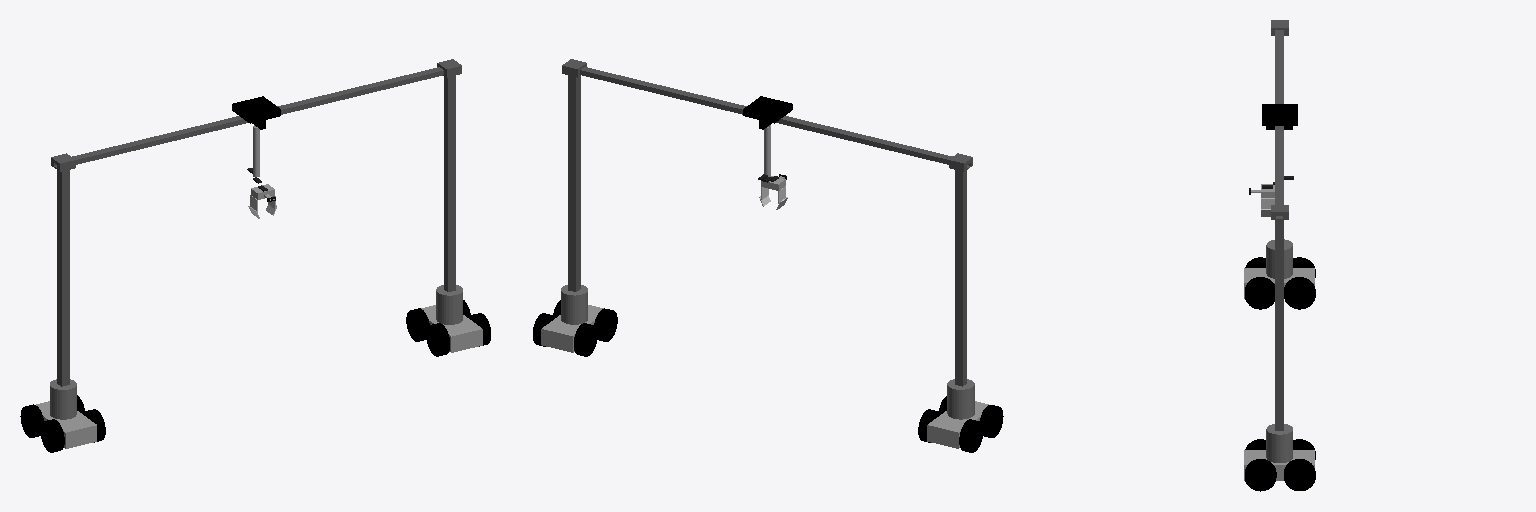
--- Render facts (derived) ---
Views: 3 orthographic renders of the robot side by side, from view 1: azimuth 30°, elevation 25°; view 2: azimuth 150°, elevation 25°; view 3: azimuth 270°, elevation 25°.
Model frame with 47 links and 46 joints (1 revolute, 9 continuous, 5 prismatic, 31 fixed), rooted at Untitled.020, posed every joint at zero.
Links seen in each view (by area): view 1: Untitled.020, Untitled.004, Untitled.009, Untitled.046, Untitled.045, Untitled.026, Untitled.017, Untitled.008, Untitled.007, Untitled.011; view 2: Untitled.020, Untitled.004, Untitled.009, Untitled.046, Untitled.045, Untitled.026, Untitled.007, Untitled.011, Untitled.008, Untitled.017; view 3: Untitled.020, Untitled.045, Untitled.006, Untitled.013, Untitled.015, Untitled.005, Untitled.026, Untitled.009, Untitled.046, Untitled.004.
Boxes of the visible links, x1,y1,x2,y2 form: Untitled.020: (51, 59, 461, 386); Untitled.004: (36, 401, 96, 448); Untitled.009: (421, 305, 482, 352); Untitled.046: (50, 379, 76, 419); Untitled.045: (436, 285, 462, 324); Untitled.026: (232, 96, 280, 123); Untitled.017: (426, 323, 449, 356); Untitled.008: (41, 419, 64, 452); Untitled.007: (20, 404, 43, 437); Untitled.011: (406, 308, 429, 341); Untitled.020: (562, 59, 972, 386); Untitled.004: (927, 401, 988, 448); Untitled.009: (541, 305, 603, 352); Untitled.046: (947, 379, 974, 419); Untitled.045: (561, 285, 587, 324); Untitled.026: (743, 96, 792, 123); Untitled.007: (959, 419, 982, 452); Untitled.011: (574, 323, 597, 356); Untitled.008: (980, 405, 1003, 437); Untitled.017: (594, 308, 617, 341); Untitled.020: (1271, 20, 1288, 430); Untitled.045: (1266, 424, 1292, 462); Untitled.006: (1284, 277, 1315, 309); Untitled.013: (1284, 459, 1315, 490); Untitled.015: (1245, 459, 1276, 491); Untitled.005: (1245, 277, 1274, 309); Untitled.026: (1262, 104, 1297, 125); Untitled.009: (1244, 450, 1314, 480); Untitled.046: (1266, 239, 1292, 278); Untitled.004: (1244, 268, 1314, 298).
Size in the robot's own frame: 2.75 by 0.4022 by 1.73 metres.
2 mesh visuals loaded from 7 distinct referenced files (2 binary STL); not drawn: 5 (reference not matched to a file when rendering).

robot.urdf — frame:
<?xml version="1.0"?>
<!-- created with Phobos 1.0.1 "Capricious Choutengan" -->
  <robot name="frame">

    <link name="Untitled">
      <inertial>
        <origin xyz="0 0 0" rpy="0 0 0"/>
        <mass value="0.001"/>
        <inertia ixx="0.001" ixy="0" ixz="0" iyy="0.001" iyz="0" izz="0.001"/>
      </inertial>
    </link>

    <link name="Untitled.001">
      <inertial>
        <origin xyz="0 0 0" rpy="0 0 0"/>
        <mass value="0.001"/>
        <inertia ixx="0.001" ixy="0" ixz="0" iyy="0.001" iyz="0" izz="0.001"/>
      </inertial>
    </link>

    <link name="Untitled.002">
      <inertial>
        <origin xyz="0 0 0" rpy="0 0 0"/>
        <mass value="0.001"/>
        <inertia ixx="0.001" ixy="0" ixz="0" iyy="0.001" iyz="0" izz="0.001"/>
      </inertial>
    </link>

    <link name="Untitled.003">
      <inertial>
        <origin xyz="0 0 0" rpy="0 0 0"/>
        <mass value="0.001"/>
        <inertia ixx="0.001" ixy="0" ixz="0" iyy="0.001" iyz="0" izz="0.001"/>
      </inertial>
    </link>

    <link name="Untitled.004">
      <inertial>
        <origin xyz="0 0 0" rpy="0 0 0"/>
        <mass value="4.0"/>
        <inertia ixx="0.00043" ixy="0" ixz="0" iyy="0.00145" iyz="0" izz="0.06667"/>
      </inertial>
      <visual name="base link.000">
        <origin xyz="0 0 0" rpy="0 0 0"/>
        <geometry>
          <box size="0.4 0.2 0.1"/>
        </geometry>
        <material name="Material.005"/>
      </visual>
      <collision name="base link.000">
        <origin xyz="0 0 0" rpy="0 0 0"/>
        <geometry>
          <box size="0.4 0.2 0.1"/>
        </geometry>
      </collision>
    </link>

    <link name="Untitled.005">
      <inertial>
        <origin xyz="0 0 0" rpy="0 0 0"/>
        <mass value="0.25"/>
        <inertia ixx="7e-05" ixy="0" ixz="0" iyy="0.00013" iyz="0" izz="0.00056"/>
      </inertial>
      <visual name="bl Link.000">
        <origin xyz="-0.0022 0 0" rpy="-3.14159 0 0"/>
        <geometry>
          <cylinder radius="0.09" length="0.05"/>
        </geometry>
        <material name="Material.004"/>
      </visual>
      <collision name="bl Link.000">
        <origin xyz="-0.0022 0 0" rpy="-3.14159 0 0"/>
        <geometry>
          <cylinder radius="0.09" length="0.05"/>
        </geometry>
      </collision>
    </link>

    <link name="Untitled.006">
      <inertial>
        <origin xyz="0 0 0" rpy="0 0 0"/>
        <mass value="0.25"/>
        <inertia ixx="7e-05" ixy="0" ixz="0" iyy="0.00013" iyz="0" izz="0.00056"/>
      </inertial>
      <visual name="bl Link.002.000">
        <origin xyz="-0.0022 0 0" rpy="-3.14159 0 0"/>
        <geometry>
          <cylinder radius="0.09" length="0.05"/>
        </geometry>
        <material name="Material.001"/>
      </visual>
      <collision name="bl Link.002.000">
        <origin xyz="-0.0022 0 0" rpy="-3.14159 0 0"/>
        <geometry>
          <cylinder radius="0.09" length="0.05"/>
        </geometry>
      </collision>
    </link>

    <link name="Untitled.007">
      <inertial>
        <origin xyz="0 0 0" rpy="0 0 0"/>
        <mass value="0.25"/>
        <inertia ixx="7e-05" ixy="0" ixz="0" iyy="0.00013" iyz="0" izz="0.00056"/>
      </inertial>
      <visual name="bl Link.003.000">
        <origin xyz="-0.0022 0 0" rpy="0 0 0"/>
        <geometry>
          <cylinder radius="0.09" length="0.05"/>
        </geometry>
        <material name="Material.002"/>
      </visual>
      <collision name="bl Link.003.000">
        <origin xyz="-0.0022 0 0" rpy="0 0 0"/>
        <geometry>
          <cylinder radius="0.09" length="0.05"/>
        </geometry>
      </collision>
    </link>

    <link name="Untitled.008">
      <inertial>
        <origin xyz="0 0 0" rpy="0 0 0"/>
        <mass value="0.25"/>
        <inertia ixx="7e-05" ixy="0" ixz="0" iyy="0.00013" iyz="0" izz="0.00056"/>
      </inertial>
      <visual name="bl Link.001.000">
        <origin xyz="-0.0022 0 0" rpy="0 0 0"/>
        <geometry>
          <cylinder radius="0.09" length="0.05"/>
        </geometry>
        <material name="Material.003"/>
      </visual>
      <collision name="bl Link.001.000">
        <origin xyz="-0.0022 0 0" rpy="0 0 0"/>
        <geometry>
          <cylinder radius="0.09" length="0.05"/>
        </geometry>
      </collision>
    </link>

    <link name="Untitled.009">
      <inertial>
        <origin xyz="0 0 0" rpy="0 0 0"/>
        <mass value="4.0"/>
        <inertia ixx="0.00043" ixy="0" ixz="0" iyy="0.00145" iyz="0" izz="0.06667"/>
      </inertial>
      <visual name="base link.001">
        <origin xyz="0 0 0" rpy="0 0 0"/>
        <geometry>
          <box size="0.4 0.2 0.1"/>
        </geometry>
        <material name="Material.005"/>
      </visual>
      <collision name="base link.000">
        <origin xyz="0 0 0" rpy="0 0 0"/>
        <geometry>
          <box size="0.4 0.2 0.1"/>
        </geometry>
      </collision>
    </link>

    <link name="Untitled.010">
      <inertial>
        <origin xyz="0 0 0" rpy="0 0 0"/>
        <mass value="0.001"/>
        <inertia ixx="0.001" ixy="0" ixz="0" iyy="0.001" iyz="0" izz="0.001"/>
      </inertial>
    </link>

    <link name="Untitled.011">
      <inertial>
        <origin xyz="0 0 0" rpy="0 0 0"/>
        <mass value="0.25"/>
        <inertia ixx="7e-05" ixy="0" ixz="0" iyy="0.00013" iyz="0" izz="0.00056"/>
      </inertial>
      <visual name="bl Link.003.001">
        <origin xyz="-0.0022 0 0" rpy="0 0 0"/>
        <geometry>
          <cylinder radius="0.09" length="0.05"/>
        </geometry>
        <material name="Material.002"/>
      </visual>
      <collision name="bl Link.003.000">
        <origin xyz="-0.0022 0 0" rpy="0 0 0"/>
        <geometry>
          <cylinder radius="0.09" length="0.05"/>
        </geometry>
      </collision>
    </link>

    <link name="Untitled.012">
      <inertial>
        <origin xyz="0 0 0" rpy="0 0 0"/>
        <mass value="0.001"/>
        <inertia ixx="0.001" ixy="0" ixz="0" iyy="0.001" iyz="0" izz="0.001"/>
      </inertial>
    </link>

    <link name="Untitled.013">
      <inertial>
        <origin xyz="0 0 0" rpy="0 0 0"/>
        <mass value="0.25"/>
        <inertia ixx="7e-05" ixy="0" ixz="0" iyy="0.00013" iyz="0" izz="0.00056"/>
      </inertial>
      <visual name="bl Link.002.001">
        <origin xyz="-0.0022 0 0" rpy="-3.14159 0 0"/>
        <geometry>
          <cylinder radius="0.09" length="0.05"/>
        </geometry>
        <material name="Material.001"/>
      </visual>
      <collision name="bl Link.002.000">
        <origin xyz="-0.0022 0 0" rpy="-3.14159 0 0"/>
        <geometry>
          <cylinder radius="0.09" length="0.05"/>
        </geometry>
      </collision>
    </link>

    <link name="Untitled.014">
      <inertial>
        <origin xyz="0 0 0" rpy="0 0 0"/>
        <mass value="0.001"/>
        <inertia ixx="0.001" ixy="0" ixz="0" iyy="0.001" iyz="0" izz="0.001"/>
      </inertial>
    </link>

    <link name="Untitled.015">
      <inertial>
        <origin xyz="0 0 0" rpy="0 0 0"/>
        <mass value="0.25"/>
        <inertia ixx="7e-05" ixy="0" ixz="0" iyy="0.00013" iyz="0" izz="0.00056"/>
      </inertial>
      <visual name="bl Link.001">
        <origin xyz="-0.0022 0 0" rpy="-3.14159 0 0"/>
        <geometry>
          <cylinder radius="0.09" length="0.05"/>
        </geometry>
        <material name="Material.004"/>
      </visual>
      <collision name="bl Link.000">
        <origin xyz="-0.0022 0 0" rpy="-3.14159 0 0"/>
        <geometry>
          <cylinder radius="0.09" length="0.05"/>
        </geometry>
      </collision>
    </link>

    <link name="Untitled.016">
      <inertial>
        <origin xyz="0 0 0" rpy="0 0 0"/>
        <mass value="0.001"/>
        <inertia ixx="0.001" ixy="0" ixz="0" iyy="0.001" iyz="0" izz="0.001"/>
      </inertial>
    </link>

    <link name="Untitled.017">
      <inertial>
        <origin xyz="0 0 0" rpy="0 0 0"/>
        <mass value="0.25"/>
        <inertia ixx="7e-05" ixy="0" ixz="0" iyy="0.00013" iyz="0" izz="0.00056"/>
      </inertial>
      <visual name="bl Link.001.001">
        <origin xyz="-0.0022 0 0" rpy="0 0 0"/>
        <geometry>
          <cylinder radius="0.09" length="0.05"/>
        </geometry>
        <material name="Material.003"/>
      </visual>
      <collision name="bl Link.001.000">
        <origin xyz="-0.0022 0 0" rpy="0 0 0"/>
        <geometry>
          <cylinder radius="0.09" length="0.05"/>
        </geometry>
      </collision>
    </link>

    <link name="Untitled.018">
      <inertial>
        <origin xyz="0 0 0" rpy="0 0 0"/>
        <mass value="0.001"/>
        <inertia ixx="0.001" ixy="0" ixz="0" iyy="0.001" iyz="0" izz="0.001"/>
      </inertial>
    </link>

    <link name="Untitled.019">
      <inertial>
        <origin xyz="0 0 0" rpy="0 0 0"/>
        <mass value="0.001"/>
        <inertia ixx="0.001" ixy="0" ixz="0" iyy="0.001" iyz="0" izz="0.001"/>
      </inertial>
    </link>

    <link name="Untitled.020">
      <inertial>
        <origin xyz="0 0 0" rpy="0 0 0"/>
        <mass value="6.0"/>
        <inertia ixx="5.68584" ixy="0" ixz="0" iyy="1.05355" iyz="0" izz="4.63377"/>
      </inertial>
      <visual name="base link.002">
        <origin xyz="0 0 -0.06" rpy="0 0 0"/>
        <geometry>
          <mesh filename="base link.005.stl" scale="1.0 1.0 1.0"/>
        </geometry>
        <material name="Material.007"/>
      </visual>

      <!-- <visual name="base link.002.000">
        <origin xyz="0 -0.01 0.35" rpy="0 0 0"/>
        <geometry>
          <box size="2.35 0.03 0.03"/>
        </geometry>
        <material name="Material.005"/>
      </visual> -->

      

<!--       <collision name="base link.002.000">
        <origin xyz="0 0 -0.06" rpy="0 0 0"/>
        <geometry>
          <mesh filename="base link.005.stl" scale="1.0 1.0 1.0"/>
        </geometry>
      </collision> -->
      <collision name="base link.002.000">
        <origin xyz="-1.22 0 -0.45" rpy="0 0 0"/>
        <geometry>
          <box size="0.05 0.05 1.5"/>
        </geometry>
      </collision>

      <collision name="base link.002.000">
        <origin xyz="1.22 0 -0.45" rpy="0 0 0"/>
        <geometry>
          <box size="0.05 0.05 1.5"/>
        </geometry>
      </collision>

      <collision name="base link.002.000">
        <origin xyz="1.22 0 0.33" rpy="0 0 0"/>
        <geometry>
          <box size="0.1 0.1 0.05"/>
        </geometry>
      </collision>

      <collision name="base link.002.000">
        <origin xyz="-1.22 0 0.33" rpy="0 0 0"/>
        <geometry>
          <box size="0.1 0.1 0.05"/>
        </geometry>
      </collision>

      <collision name="base link.002.000">
        <origin xyz="0 -0.01 0.33" rpy="0 0 0"/>
        <geometry>
          <box size="2.35 0.03 0.03"/>
        </geometry>
        <material name="Material.005"/>
      </collision>
    </link>

    <link name="Untitled.021">
      <inertial>
        <origin xyz="0 0 0.01" rpy="0 0 0"/>
        <mass value="0.01"/>
        <inertia ixx="2e-05" ixy="0" ixz="0" iyy="2e-05" iyz="0" izz="2e-05"/>
      </inertial>
      <visual name="Cube.003">
        <origin xyz="0 0 0.01" rpy="0 0 0"/>
        <geometry>
          <box size="0.15 0.03 0.01"/>
        </geometry>
        <material name="Material.009"/>
      </visual>
      <collision name="Cube.003">
        <origin xyz="0 0 0.01" rpy="0 0 0"/>
        <geometry>
          <box size="0.15 0.03 0.01"/>
        </geometry>
      </collision>
    </link>

    <link name="Untitled.022">
      <inertial>
        <origin xyz="0 0 0" rpy="0 0 0"/>
        <mass value="0.05"/>
        <inertia ixx="2e-05" ixy="0" ixz="0" iyy="2e-05" iyz="0" izz="2e-05"/>
      </inertial>
      <visual name="Cube.002">
        <origin xyz="0 0 0" rpy="0 0 0"/>
        <geometry>
          <box size="0.03 0.03 0.06"/>
        </geometry>
        <material name="Material.010"/>
      </visual>
      <collision name="Cube.002">
        <origin xyz="0 0 0" rpy="0 0 0"/>
        <geometry>
          <box size="0.03 0.03 0.06"/>
        </geometry>
      </collision>
    </link>

    <link name="Untitled.023">
      <inertial>
        <origin xyz="0 0 0" rpy="0 0 0"/>
        <mass value="0.05"/>
        <inertia ixx="2e-05" ixy="0" ixz="0" iyy="2e-05" iyz="0" izz="2e-05"/>
      </inertial>
      <visual name="Cube.001">
        <origin xyz="0 0 0" rpy="0 0 0"/>
        <geometry>
          <box size="0.03 0.03 0.06"/>
        </geometry>
        <material name="Material.010"/>
      </visual>
      <collision name="Cube.001">
        <origin xyz="0 0 0" rpy="0 0 0"/>
        <geometry>
          <box size="0.03 0.03 0.06"/>
        </geometry>
      </collision>
    </link>

    <link name="Untitled.024">
      <inertial>
        <origin xyz="0 0 0" rpy="0 0 0"/>
        <mass value="0.001"/>
        <inertia ixx="0.001" ixy="0" ixz="0" iyy="0.001" iyz="0" izz="0.001"/>
      </inertial>
    </link>

    <link name="Untitled.025">
      <inertial>
        <origin xyz="0 0 0" rpy="0 0 0"/>
        <mass value="0.001"/>
        <inertia ixx="0.001" ixy="0" ixz="0" iyy="0.001" iyz="0" izz="0.001"/>
      </inertial>
    </link>

    <link name="Untitled.026">
      <inertial>
        <origin xyz="0 0 0" rpy="0 0 0"/>
        <mass value="0.5"/>
        <inertia ixx="2e-05" ixy="0" ixz="0" iyy="2e-05" iyz="0" izz="2e-05"/>
      </inertial>
      <visual name="Cube">
        <origin xyz="0 0 0" rpy="-1.5708 0 0"/>
        <geometry>
          <box size="0.2 0.2 0.04"/>
        </geometry>
        <material name="Material.008"/>
      </visual>
      <collision name="Cube">
        <origin xyz="0 0 0" rpy="-1.5708 0 0"/>
        <geometry>
          <box size="0.2 0.2 0.04"/>
        </geometry>
      </collision>
    </link>

    <link name="Untitled.027">
      <inertial>
        <origin xyz="0 0 0" rpy="0 0 0"/>
        <mass value="0.5"/>
        <inertia ixx="0.00286" ixy="0" ixz="0" iyy="0.00286" iyz="0" izz="0.0001"/>
      </inertial>
      <visual name="base link">
        <origin xyz="0 0 0" rpy="0 0 0"/>
        <geometry>
          <mesh filename="base link.006.stl" scale="1.0 1.0 1.0"/>
        </geometry>
        <material name="Material.011"/>
      </visual>
      <collision name="base link.000.001.002">
        <origin xyz="0 0.00061 0" rpy="0 0 0"/>
        <geometry>
          <mesh filename="base link.009.stl" scale="1.0 1.0 1.0"/>
        </geometry>
      </collision>
    </link>

    <link name="Untitled.028">
      <inertial>
        <origin xyz="0 0 0.02952" rpy="0 0 0"/>
        <mass value="0.5"/>
        <inertia ixx="0.00377" ixy="0" ixz="0" iyy="0.00377" iyz="0" izz="4e-05"/>
      </inertial>
      <visual name="inner Link">
        <origin xyz="0 0 0.02952" rpy="0 0 0"/>
        <geometry>
          <mesh filename="inner Link.stl" scale="1.0 1.0 1.0"/>
        </geometry>
        <material name="Material.012"/>
      </visual>
      <collision name="inner Link.000">
        <origin xyz="0 0 0.02952" rpy="0 0 0"/>
        <geometry>
          <mesh filename="inner Link.003.stl" scale="1.0 1.0 1.0"/>
        </geometry>
      </collision>
    </link>

    <link name="Untitled.029">
      <inertial>
        <origin xyz="0 0 0" rpy="0 0 0"/>
        <mass value="0.1"/>
        <inertia ixx="2e-05" ixy="0" ixz="0" iyy="2e-05" iyz="0" izz="2e-05"/>
      </inertial>
      <visual name="Cube.004">
        <origin xyz="0 0 0" rpy="0 0 0"/>
        <geometry>
          <box size="0.06 0.026 0.01"/>
        </geometry>
        <material name="Material.013"/>
      </visual>
      <collision name="Cube.004">
        <origin xyz="0 0 0" rpy="0 0 0"/>
        <geometry>
          <box size="0.06 0.026 0.01"/>
        </geometry>
      </collision>
    </link>

    <link name="Untitled.030">
      <inertial>
        <origin xyz="0 0 0" rpy="0 0 0"/>
        <mass value="0.5"/>
        <inertia ixx="0.00286" ixy="0" ixz="0" iyy="0.00286" iyz="0" izz="0.0001"/>
      </inertial>
      <visual name="base link.003">
        <origin xyz="0 0 0" rpy="0 0 0"/>
        <geometry>
          <mesh filename="base link.007.stl" scale="1.0 1.0 1.0"/>
        </geometry>
        <material name="Material.014"/>
      </visual>
      <collision name="base link.003.000">
        <origin xyz="0 0 0" rpy="0 0 0"/>
        <geometry>
          <mesh filename="base link.007.stl" scale="1.0 1.0 1.0"/>
        </geometry>
      </collision>
    </link>

    <link name="Untitled.031">
      <inertial>
        <origin xyz="0 0 0" rpy="0 0 0"/>
        <mass value="0.5"/>
        <inertia ixx="0.00377" ixy="0" ixz="0" iyy="0.00377" iyz="0" izz="4e-05"/>
      </inertial>
      <visual name="inner Link.001">
        <origin xyz="0 0 0" rpy="0 0 0"/>
        <geometry>
          <mesh filename="inner Link.001.stl" scale="1.0 1.0 1.0"/>
        </geometry>
        <material name="Material.015"/>
      </visual>
      <collision name="inner Link.001.000">
        <origin xyz="0 0 0" rpy="0 0 0"/>
        <geometry>
          <mesh filename="inner Link.004.stl" scale="1.0 1.0 1.0"/>
        </geometry>
      </collision>
    </link>

    <link name="Untitled.032">
      <inertial>
        <origin xyz="0 0 0" rpy="0 0 0"/>
        <mass value="0.1"/>
        <inertia ixx="2e-05" ixy="0" ixz="0" iyy="2e-05" iyz="0" izz="2e-05"/>
      </inertial>
      <visual name="Cube.005">
        <origin xyz="0 0 0" rpy="0 0 0"/>
        <geometry>
          <box size="0.06 0.026 0.01"/>
        </geometry>
        <material name="Material.016"/>
      </visual>
      <collision name="Cube.005">
        <origin xyz="0 0 0" rpy="0 0 0"/>
        <geometry>
          <box size="0.06 0.026 0.01"/>
        </geometry>
      </collision>
    </link>

    <link name="Untitled.033">
      <inertial>
        <origin xyz="0 0 0" rpy="0 0 0"/>
        <mass value="0.5"/>
        <inertia ixx="0.00286" ixy="0" ixz="0" iyy="0.00286" iyz="0" izz="0.0001"/>
      </inertial>
      <visual name="base link.004">
        <origin xyz="0 0 0" rpy="0 0 0"/>
        <geometry>
          <mesh filename="base link.008.stl" scale="1.0 1.0 1.0"/>
        </geometry>
        <material name="Material.017"/>
      </visual>
      <collision name="base link.004.000">
        <origin xyz="0 0 0" rpy="0 0 0"/>
        <geometry>
          <mesh filename="base link.011.stl" scale="1.0 1.0 1.0"/>
        </geometry>
      </collision>
    </link>

    <link name="Untitled.034">
      <inertial>
        <origin xyz="0 0 0" rpy="0 0 0"/>
        <mass value="0.5"/>
        <inertia ixx="0.00377" ixy="0" ixz="0" iyy="0.00377" iyz="0" izz="4e-05"/>
      </inertial>
      <visual name="inner Link.002">
        <origin xyz="0 0 0" rpy="0 0 0"/>
        <geometry>
          <mesh filename="inner Link.002.stl" scale="1.0 1.0 1.0"/>
        </geometry>
        <material name="Material.018"/>
      </visual>
      <collision name="inner Link.002.000">
        <origin xyz="0 0 0" rpy="0 0 0"/>
        <geometry>
          <mesh filename="inner Link.005.stl" scale="1.0 1.0 1.0"/>
        </geometry>
      </collision>
    </link>

    <link name="Untitled.035">
      <inertial>
        <origin xyz="0 0 0" rpy="0 0 0"/>
        <mass value="0.1"/>
        <inertia ixx="2e-05" ixy="0" ixz="0" iyy="2e-05" iyz="0" izz="2e-05"/>
      </inertial>
      <visual name="Cube.006">
        <origin xyz="0 0 0" rpy="0 0 0"/>
        <geometry>
          <box size="0.06 0.026 0.01"/>
        </geometry>
        <material name="Material.019"/>
      </visual>
      <collision name="Cube.006">
        <origin xyz="0 0 0" rpy="0 0 0"/>
        <geometry>
          <box size="0.06 0.026 0.01"/>
        </geometry>
      </collision>
    </link>

    <link name="Untitled.036">
      <inertial>
        <origin xyz="0 0 0" rpy="0 0 0"/>
        <mass value="0.3"/>
        <inertia ixx="2e-05" ixy="0" ixz="0" iyy="2e-05" iyz="0" izz="2e-05"/>
      </inertial>
      <visual name="Cube.007">
        <origin xyz="0 0 0" rpy="0 0 0"/>
        <geometry>
          <box size="0.08 0.11 0.04"/>
        </geometry>
        <material name="Material.020"/>
      </visual>
      <collision name="Cube.007">
        <origin xyz="0 0 0" rpy="0 0 0"/>
        <geometry>
          <box size="0.06 0.055 0.04"/>
        </geometry>
      </collision>
    </link>

    <link name="Untitled.037">
      <inertial>
        <origin xyz="0 0 0" rpy="0 0 0"/>
        <mass value="0.01"/>
        <inertia ixx="2e-05" ixy="0" ixz="0" iyy="2e-05" iyz="0" izz="2e-05"/>
      </inertial>
      <visual name="Cube.009">
        <origin xyz="0 0 0" rpy="0 0 0"/>
        <geometry>
          <box size="0.08 0.005 0.06"/>
        </geometry>
        <material name="Material.021"/>
      </visual>
      <collision name="Cube.009">
        <origin xyz="0 0 0" rpy="0 0 0"/>
        <geometry>
          <box size="0.08 0.005 0.06"/>
        </geometry>
      </collision>
    </link>

    <link name="Untitled.038">
      <inertial>
        <origin xyz="0 0 0" rpy="0 0 0"/>
        <mass value="0.05"/>
        <inertia ixx="2e-05" ixy="0" ixz="0" iyy="2e-05" iyz="0" izz="2e-05"/>
      </inertial>
      <visual name="Cube.008">
        <origin xyz="0 0 0" rpy="-1.5708 0 0"/>
        <geometry>
          <box size="0.08 0.005 0.08"/>
        </geometry>
        <material name="Material.022"/>
      </visual>
      <collision name="Cube.008">
        <origin xyz="0 0 0" rpy="-1.5708 0 0"/>
        <geometry>
          <box size="0.08 0.005 0.08"/>
        </geometry>
      </collision>
    </link>

    <link name="Untitled.039">
      <inertial>
        <origin xyz="0 0 0" rpy="0 0 0"/>
        <mass value="0.01"/>
        <inertia ixx="2e-05" ixy="0" ixz="0" iyy="2e-05" iyz="0" izz="2e-05"/>
      </inertial>
      <visual name="Cube.011">
        <origin xyz="0 0 0" rpy="0 0 0"/>
        <geometry>
          <box size="0.08 0.005 0.06"/>
        </geometry>
        <material name="Material.024"/>
      </visual>
      <collision name="Cube.011">
        <origin xyz="0 0 0" rpy="0 0 0"/>
        <geometry>
          <box size="0.08 0.005 0.06"/>
        </geometry>
      </collision>
    </link>

    <link name="Untitled.040">
      <inertial>
        <origin xyz="0 0 0" rpy="0 0 0"/>
        <mass value="0.05"/>
        <inertia ixx="2e-05" ixy="0" ixz="0" iyy="2e-05" iyz="0" izz="2e-05"/>
      </inertial>
      <visual name="Cube.010">
        <origin xyz="0 0 0" rpy="1.5708 0 0"/>
        <geometry>
          <box size="0.08 0.005 0.08"/>
        </geometry>
        <material name="Material.023"/>
      </visual>
      <collision name="Cube.010">
        <origin xyz="0 0 0" rpy="1.5708 0 0"/>
        <geometry>
          <box size="0.08 0.005 0.08"/>
        </geometry>
      </collision>
    </link>

    <link name="Untitled.041">
      <inertial>
        <origin xyz="0 0 0" rpy="0 0 0"/>
        <mass value="0.005"/>
        <inertia ixx="2e-05" ixy="0" ixz="0" iyy="2e-05" iyz="0" izz="2e-05"/>
      </inertial>
      <visual name="Cube.012.000">
        <origin xyz="0 0 0" rpy="0 0 0"/>
        <geometry>
          <box size="0.06 0.026 0.01"/>
        </geometry>
        <material name="Material.025"/>
      </visual>
      <collision name="Cube.012.000">
        <origin xyz="0 0 0" rpy="0 0 0"/>
        <geometry>
          <box size="0.06 0.026 0.01"/>
        </geometry>
      </collision>
    </link>

    <link name="Untitled.042">
      <inertial>
        <origin xyz="0 0 0.01" rpy="0 0 0"/>
        <mass value="0.005"/>
        <inertia ixx="2e-05" ixy="0" ixz="0" iyy="2e-05" iyz="0" izz="2e-05"/>
      </inertial>
      <visual name="Cube.013">
        <origin xyz="0 0 0.01" rpy="-1.5708 0 -1.5708"/>
        <geometry>
          <box size="0.02 0.05 0.01"/>
        </geometry>
        <material name="Material.026"/>
      </visual>
      <collision name="Cube.013">
        <origin xyz="0 0 0.01" rpy="-1.5708 0 -1.5708"/>
        <geometry>
          <box size="0.02 0.05 0.01"/>
        </geometry>
      </collision>
    </link>

    <link name="Untitled.043">
      <inertial>
        <origin xyz="0 0 0" rpy="0 0 0"/>
        <mass value="0.001"/>
        <inertia ixx="0.001" ixy="0" ixz="0" iyy="0.001" iyz="0" izz="0.001"/>
      </inertial>
      <visual name="Cylinder.001">
        <origin xyz="0 0 0" rpy="0 0 0"/>
        <geometry>
          <cylinder radius="0.005" length="0.01"/>
        </geometry>
        <material name="Material.027"/>
      </visual>
    </link>

    <link name="Untitled.044">
      <inertial>
        <origin xyz="0 0 0" rpy="0 0 0"/>
        <mass value="0.001"/>
        <inertia ixx="0.001" ixy="0" ixz="0" iyy="0.001" iyz="0" izz="0.001"/>
      </inertial>
      <visual name="Cylinder">
        <origin xyz="0 0 0" rpy="0 0 0"/>
        <geometry>
          <cylinder radius="0.005" length="0.01"/>
        </geometry>
        <material name="Material.027"/>
      </visual>
    </link>

    <link name="Untitled.045">
      <inertial>
        <origin xyz="0 0 0" rpy="0 0 0"/>
        <mass value="1.0"/>
        <inertia ixx="2e-05" ixy="0" ixz="0" iyy="2e-05" iyz="0" izz="3e-05"/>
      </inertial>
      <visual name="Cylinder.003">
        <origin xyz="0 0 0" rpy="0 0 0"/>
        <geometry>
          <cylinder radius="0.075" length="0.18"/>
        </geometry>
        <material name="Material.028"/>
      </visual>
      <collision name="Cylinder.003">
        <origin xyz="0 0 0" rpy="0 0 0"/>
        <geometry>
          <cylinder radius="0.075" length="0.18"/>
        </geometry>
      </collision>
    </link>

    <link name="Untitled.046">
      <inertial>
        <origin xyz="0 0 0" rpy="0 0 0"/>
        <mass value="1.0"/>
        <inertia ixx="2e-05" ixy="0" ixz="0" iyy="2e-05" iyz="0" izz="2e-05"/>
      </inertial>
      <visual name="Cylinder.002">
        <origin xyz="0 0 0" rpy="0 0 0"/>
        <geometry>
          <cylinder radius="0.075" length="0.18"/>
        </geometry>
        <material name="Material.028"/>
      </visual>
      <collision name="Cylinder.002">
        <origin xyz="0 0 0" rpy="0 0 0"/>
        <geometry>
          <cylinder radius="0.075" length="0.18"/>
        </geometry>
      </collision>
    </link>

    <joint name="Untitled" type="fixed">
      <origin xyz="-0.11 0.06 0" rpy="1.5708 0 0"/>
      <parent link="Untitled.004"/>
      <child link="Untitled"/>
    </joint>

    <joint name="Untitled.001" type="fixed">
      <origin xyz="-0.11 -0.06 0" rpy="-1.5708 0 0"/>
      <parent link="Untitled.004"/>
      <child link="Untitled.001"/>
    </joint>

    <joint name="Untitled.002" type="fixed">
      <origin xyz="0.11 0.06 0" rpy="1.5708 0 0"/>
      <parent link="Untitled.004"/>
      <child link="Untitled.002"/>
    </joint>

    <joint name="Untitled.003" type="fixed">
      <origin xyz="0.11 -0.06 0" rpy="-1.5708 0 0"/>
      <parent link="Untitled.004"/>
      <child link="Untitled.003"/>
    </joint>

    <joint name="Untitled.004" type="fixed">
      <origin xyz="0 0 -0.07" rpy="0 0 -1.5708"/>
      <parent link="Untitled.018"/>
      <child link="Untitled.004"/>
    </joint>

    <joint name="Untitled.005" type="continuous">
      <origin xyz="0 0 -0.07" rpy="3.14159 0 0"/>
      <parent link="Untitled.002"/>
      <child link="Untitled.005"/>
      <axis xyz="0 0 1.0"/>
      <limit effort="0.1" velocity="1.5"/>
    </joint>

    <joint name="Untitled.006" type="continuous">
      <origin xyz="0 0 -0.07" rpy="3.14159 0 0"/>
      <parent link="Untitled"/>
      <child link="Untitled.006"/>
      <axis xyz="0 0 1.0"/>
      <limit effort="0.1" velocity="1.5"/>
    </joint>

    <joint name="Untitled.007" type="continuous">
      <origin xyz="0 0 -0.07" rpy="-3.14159 0 0"/>
      <parent link="Untitled.001"/>
      <child link="Untitled.007"/>
      <axis xyz="0 0 1.0"/>
      <limit effort="0.1" velocity="1.5"/>
    </joint>

    <joint name="Untitled.008" type="continuous">
      <origin xyz="0 0 -0.07" rpy="-3.14159 0 0"/>
      <parent link="Untitled.003"/>
      <child link="Untitled.008"/>
      <axis xyz="0 0 1.0"/>
      <limit effort="0.1" velocity="1.5"/>
    </joint>

    <joint name="Untitled.009" type="fixed">
      <origin xyz="0 0 -0.0576" rpy="0 0 -1.5708"/>
      <parent link="Untitled.019"/>
      <child link="Untitled.009"/>
    </joint>

    <joint name="Untitled.010" type="fixed">
      <origin xyz="-0.11 -0.06 0" rpy="-1.5708 0 0"/>
      <parent link="Untitled.009"/>
      <child link="Untitled.010"/>
    </joint>

    <joint name="Untitled.011" type="continuous">
      <origin xyz="0 0 -0.07" rpy="-3.14159 0 0"/>
      <parent link="Untitled.010"/>
      <child link="Untitled.011"/>
      <axis xyz="0 0 1.0"/>
      <limit effort="0.1" velocity="1.5"/>
    </joint>

    <joint name="Untitled.012" type="fixed">
      <origin xyz="-0.11 0.06 0" rpy="1.5708 0 0"/>
      <parent link="Untitled.009"/>
      <child link="Untitled.012"/>
    </joint>

    <joint name="Untitled.013" type="continuous">
      <origin xyz="0 0 -0.07" rpy="3.14159 0 0"/>
      <parent link="Untitled.012"/>
      <child link="Untitled.013"/>
      <axis xyz="0 0 1.0"/>
      <limit effort="0.1" velocity="1.5"/>
    </joint>

    <joint name="Untitled.014" type="fixed">
      <origin xyz="0.11 0.06 0" rpy="1.5708 0 0"/>
      <parent link="Untitled.009"/>
      <child link="Untitled.014"/>
    </joint>

    <joint name="Untitled.015" type="continuous">
      <origin xyz="0 0 -0.07" rpy="3.14159 0 0"/>
      <parent link="Untitled.014"/>
      <child link="Untitled.015"/>
      <axis xyz="0 0 1.0"/>
      <limit effort="0.1" velocity="1.5"/>
    </joint>

    <joint name="Untitled.016" type="fixed">
      <origin xyz="0.11 -0.06 0" rpy="-1.5708 0 0"/>
      <parent link="Untitled.009"/>
      <child link="Untitled.016"/>
    </joint>

    <joint name="Untitled.017" type="continuous">
      <origin xyz="0 0 -0.07" rpy="-3.14159 0 0"/>
      <parent link="Untitled.016"/>
      <child link="Untitled.017"/>
      <axis xyz="0 0 1.0"/>
      <limit effort="0.1" velocity="1.5"/>
    </joint>

    <joint name="Untitled.018" type="fixed">
      <origin xyz="-1.225 0 -1.18292" rpy="0 0 0"/>
      <parent link="Untitled.020"/>
      <child link="Untitled.018"/>
    </joint>

    <joint name="Untitled.019" type="fixed">
      <origin xyz="1.22 0 -1.18292" rpy="0 0 0"/>
      <parent link="Untitled.020"/>
      <child link="Untitled.019"/>
    </joint>

    <joint name="Untitled.021" type="fixed">
      <origin xyz="0.06656 -0.00819 -0.00718" rpy="0 0 0"/>
      <parent link="Untitled.024"/>
      <child link="Untitled.021"/>
    </joint>

    <joint name="Untitled.022" type="fixed">
      <origin xyz="-0.06 -0.05371 0" rpy="-1.5708 0 0"/>
      <parent link="Untitled.026"/>
      <child link="Untitled.022"/>
    </joint>

    <joint name="Untitled.023" type="fixed">
      <origin xyz="0.06 -0.05371 0" rpy="-1.5708 0 0"/>
      <parent link="Untitled.026"/>
      <child link="Untitled.023"/>
    </joint>

    <joint name="Untitled.024" type="fixed">
      <origin xyz="-0.00656 0.00819 -0.03142" rpy="0 0 0"/>
      <parent link="Untitled.022"/>
      <child link="Untitled.024"/>
    </joint>

    <joint name="Untitled.025" type="fixed">
      <origin xyz="0.00237 -0.00899 -0.03609" rpy="0 0 0"/>
      <parent link="Untitled.023"/>
      <child link="Untitled.025"/>
    </joint>

    <joint name="Untitled.026" type="prismatic">
      <origin xyz="0 0 0.36263" rpy="1.5708 0 -1.5708"/>
      <parent link="Untitled.020"/>
      <child link="Untitled.026"/>
      <axis xyz="0 0 1.0"/>
      <limit lower="-1.2931" upper="1.29" effort="0.1" velocity="1.0"/>
    </joint>

    <joint name="Untitled.027" type="fixed">
      <origin xyz="0.00656 -0.00819 -0.15126" rpy="0 0 0"/>
      <parent link="Untitled.024"/>
      <child link="Untitled.027"/>
    </joint>

    <joint name="Untitled.028" type="prismatic">
      <origin xyz="0 0 -0.02468" rpy="0 0 0"/>
      <parent link="Untitled.027"/>
      <child link="Untitled.028"/>
      <axis xyz="0 0 1.0"/>
      <limit lower="-1.2931" upper="1.29" effort="0.1" velocity="1.0"/>
    </joint>

    <joint name="Untitled.029" type="fixed">
      <origin xyz="0.01 0 -0.12848" rpy="0 0 0"/>
      <parent link="Untitled.028"/>
      <child link="Untitled.029"/>
    </joint>

    <joint name="Untitled.030" type="fixed">
      <origin xyz="0.05 0 0.14075" rpy="0 0 0"/>
      <parent link="Untitled.029"/>
      <child link="Untitled.030"/>
    </joint>

    <joint name="Untitled.031" type="prismatic">
      <origin xyz="0 0 -0.02247" rpy="0 0 0"/>
      <parent link="Untitled.030"/>
      <child link="Untitled.031"/>
      <axis xyz="0 0 1.0"/>
      <limit lower="-1.2931" upper="1.29" effort="0.1" velocity="1.0"/>
    </joint>

    <joint name="Untitled.032" type="fixed">
      <origin xyz="0.00738 0.0014 -0.1528" rpy="0 0 0"/>
      <parent link="Untitled.031"/>
      <child link="Untitled.032"/>
    </joint>

    <joint name="Untitled.033" type="fixed">
      <origin xyz="0.05262 -0.0014 0.13993" rpy="0 0 0"/>
      <parent link="Untitled.032"/>
      <child link="Untitled.033"/>
    </joint>

    <joint name="Untitled.034" type="prismatic">
      <origin xyz="0 0 -0.01" rpy="0 0 0"/>
      <parent link="Untitled.033"/>
      <child link="Untitled.034"/>
      <axis xyz="0 0 1.0"/>
      <limit lower="-1.2931" upper="1.29" effort="0.1" velocity="1.0"/>
    </joint>

    <joint name="Untitled.035" type="fixed">
      <origin xyz="0.00989 -0.00047 -0.15397" rpy="0 0 0"/>
      <parent link="Untitled.034"/>
      <child link="Untitled.035"/>
    </joint>

    <joint name="Untitled.036" type="continuous">
      <origin xyz="-0.00332 0.00214 -0.02292" rpy="0 0 0"/>
      <parent link="Untitled.035"/>
      <child link="Untitled.036"/>
      <axis xyz="0 0 1.0"/>
      <limit effort="0.1" velocity="1.0"/>
    </joint>

    <joint name="Untitled.037" type="fixed">
      <origin xyz="0 -0.05 0" rpy="-1.13446 0 0"/>
      <parent link="Untitled.038"/>
      <child link="Untitled.037"/>
    </joint>

    <joint name="Untitled.038" type="fixed">
      <origin xyz="0 -0.055 -0.06044" rpy="1.5708 0 0"/>
      <parent link="Untitled.036"/>
      <child link="Untitled.038"/>
    </joint>

    <joint name="Untitled.039" type="fixed">
      <origin xyz="0 0.05 0" rpy="1.13446 0 0"/>
      <parent link="Untitled.040"/>
      <child link="Untitled.039"/>
    </joint>

    <joint name="Untitled.040" type="prismatic">
      <origin xyz="0 0.055 -0.06044" rpy="-1.5708 0 0"/>
      <parent link="Untitled.036"/>
      <child link="Untitled.040"/>
      <axis xyz="0 0 1.0"/>
      <limit lower="-1.2931" upper="1.29" effort="0.1" velocity="1.0"/>
    </joint>

    <joint name="Untitled.041" type="fixed">
      <origin xyz="0.07032 -0.00214 -0.00337" rpy="0 0 0"/>
      <parent link="Untitled.036"/>
      <child link="Untitled.041"/>
    </joint>

    <joint name="Untitled.042" type="revolute">
      <origin xyz="0.03 0.01 0.00027" rpy="1.5708 0 0"/>
      <parent link="Untitled.041"/>
      <child link="Untitled.042"/>
      <axis xyz="0 0 1.0"/>
      <limit lower="-1.57" upper="0" effort="0.01" velocity="0.1"/>
    </joint>

    <joint name="Untitled.043" type="fixed">
      <origin xyz="0.002 0 0.02" rpy="-1.5708 0 -1.5708"/>
      <parent link="Untitled.042"/>
      <child link="Untitled.043"/>
    </joint>

    <joint name="Untitled.044" type="fixed">
      <origin xyz="0.002 0 0" rpy="-1.5708 0 -1.5708"/>
      <parent link="Untitled.042"/>
      <child link="Untitled.044"/>
    </joint>

    <joint name="Untitled.045" type="fixed">
      <origin xyz="0 0.005 0.1376" rpy="0 0 0"/>
      <parent link="Untitled.009"/>
      <child link="Untitled.045"/>
    </joint>

    <joint name="Untitled.046" type="fixed">
      <origin xyz="0 0 0.15" rpy="0 0 0"/>
      <parent link="Untitled.004"/>
      <child link="Untitled.046"/>
    </joint>

    <material name="Material.001">
      <color rgba="0 0 0 1.0"/>
    </material>

    <material name="Material.002">
      <color rgba="0 0 0 1.0"/>
    </material>

    <material name="Material.003">
      <color rgba="0 0 0 1.0"/>
    </material>

    <material name="Material.004">
      <color rgba="0 0 0 1.0"/>
    </material>

    <material name="Material.005">
      <color rgba="0.64 0.64 0.64 1.0"/>
    </material>

    <material name="Material.007">
      <color rgba="0.4 0.4 0.4 1.0"/>
    </material>

    <material name="Material.008">
      <color rgba="0 0 0 1.0"/>
    </material>

    <material name="Material.009">
      <color rgba="0 0 0 1.0"/>
    </material>

    <material name="Material.010">
      <color rgba="0 0 0 1.0"/>
    </material>

    <material name="Material.011">
      <color rgba="0.64 0.64 0.64 1.0"/>
    </material>

    <material name="Material.012">
      <color rgba="0.16 0.16 0.16 1.0"/>
    </material>

    <material name="Material.013">
      <color rgba="0.16 0.16 0.16 1.0"/>
    </material>

    <material name="Material.014">
      <color rgba="0.64 0.64 0.64 1.0"/>
    </material>

    <material name="Material.015">
      <color rgba="0.16 0.16 0.16 1.0"/>
    </material>

    <material name="Material.016">
      <color rgba="0.16 0.16 0.16 1.0"/>
    </material>

    <material name="Material.017">
      <color rgba="0.64 0.64 0.64 1.0"/>
    </material>

    <material name="Material.018">
      <color rgba="0.16 0.16 0.16 1.0"/>
    </material>

    <material name="Material.019">
      <color rgba="0.16 0.16 0.16 1.0"/>
    </material>

    <material name="Material.020">
      <color rgba="0.64 0.64 0.64 1.0"/>
    </material>

    <material name="Material.021">
      <color rgba="0.76 0.76 0.76 1.0"/>
    </material>

    <material name="Material.022">
      <color rgba="0.76 0.76 0.76 1.0"/>
    </material>

    <material name="Material.023">
      <color rgba="0.76 0.76 0.76 1.0"/>
    </material>

    <material name="Material.024">
      <color rgba="0.76 0.76 0.76 1.0"/>
    </material>

    <material name="Material.025">
      <color rgba="0.64 0.64 0.64 1.0"/>
    </material>

    <material name="Material.026">
      <color rgba="0.09 0.09 0.09 1.0"/>
    </material>

    <material name="Material.027">
      <color rgba="0.76 0.76 0.76 1.0"/>
    </material>

    <material name="Material.028">
      <color rgba="0.48 0.48 0.48 1.0"/>
    </material>

  </robot>
